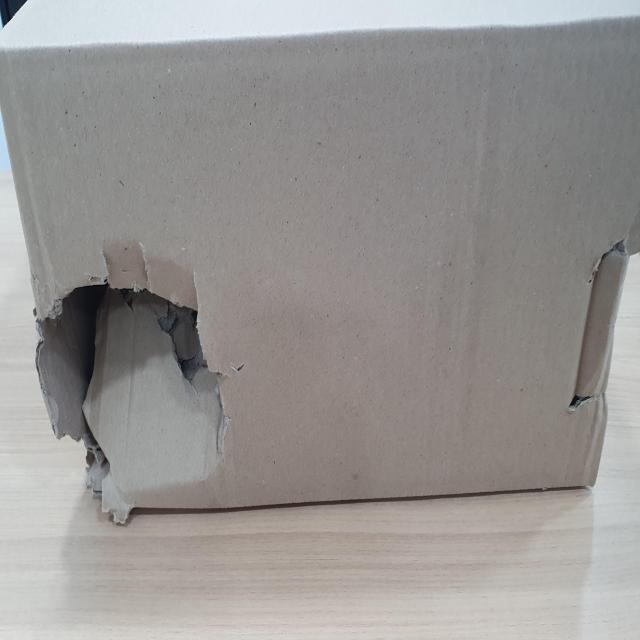damaged: (31, 254, 246, 516)
